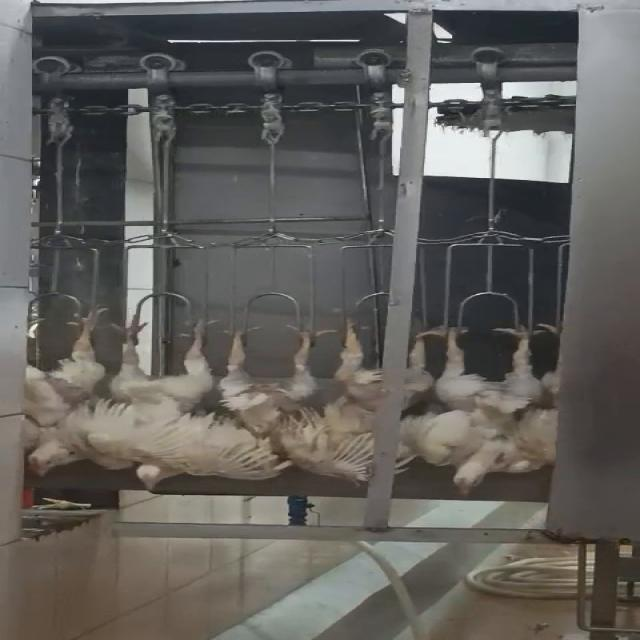chicken: (409, 316, 573, 494), (108, 314, 224, 493), (0, 306, 112, 485), (217, 316, 331, 478), (318, 314, 387, 478)
